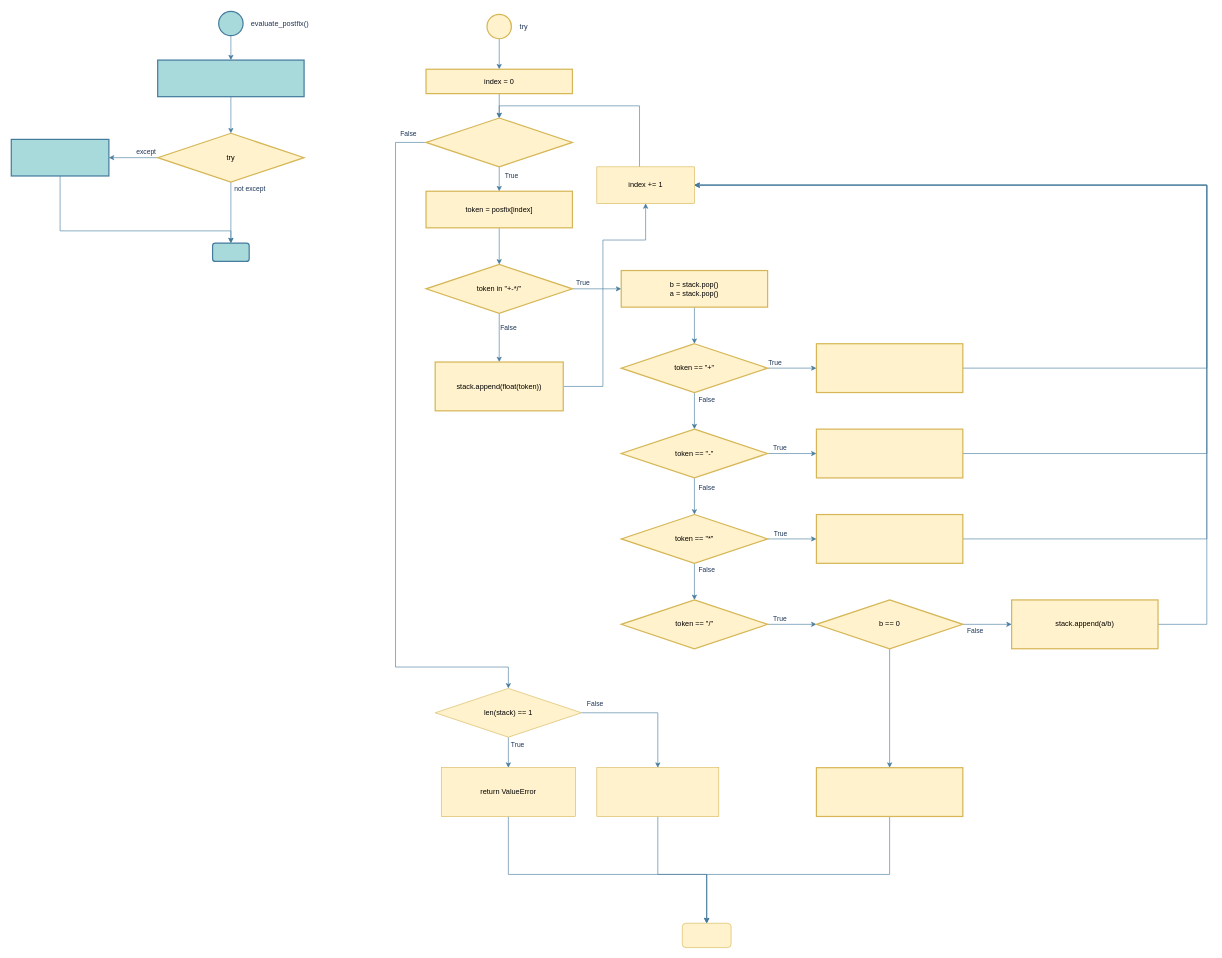
The diagram is 1222 pixels wide and 958 high, and some of its shapes have lost their labels. Each missing label, with the centre of its shape:
index < len(postfix): (x=499, y=142)
raise ZeroDivisionError: (x=889, y=792)
return str(stack[0]): (x=657, y=791)
self.just_errored = True return "Error": (x=59, y=157)
stack = []: (x=230, y=78)
stack.append(a*b): (x=889, y=539)
stack.append(a+b): (x=889, y=368)
stack.append(a-b): (x=889, y=453)
